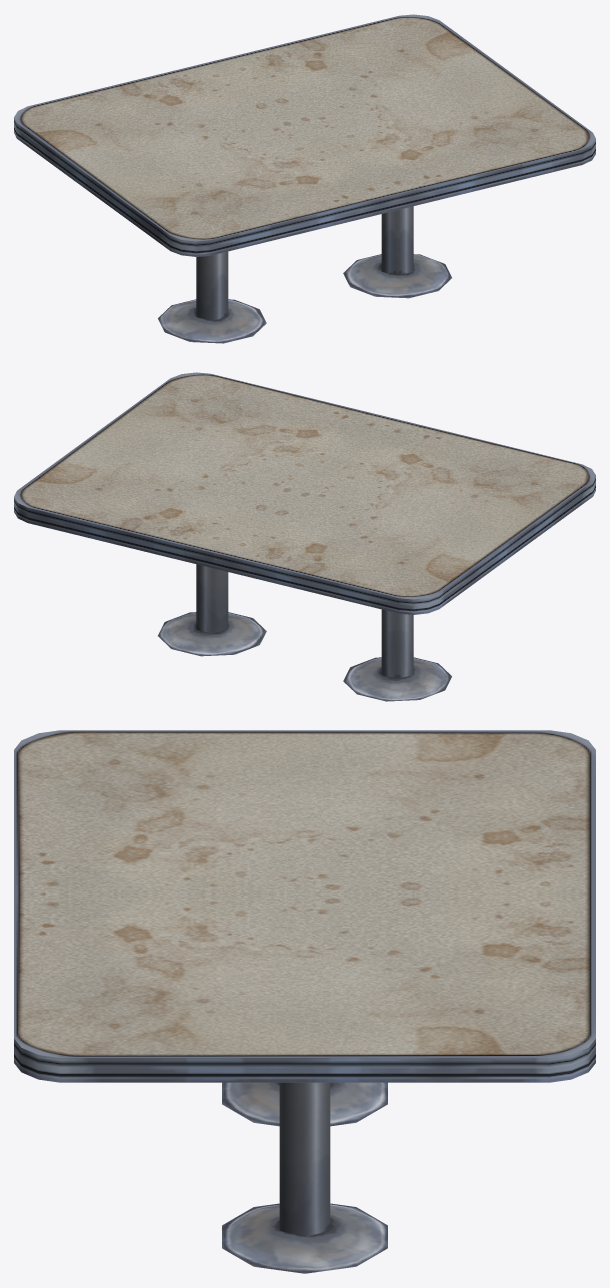
File: table_diner.fbx
3 views of the same model, one above another, from view 1: azimuth 30°, elevation 25°; view 2: azimuth 150°, elevation 25°; view 3: azimuth 270°, elevation 25° (orthographic). The views are drawn at different scales.
Visible parts, largest first — view 1: table_diner; view 2: table_diner; view 3: table_diner.
Part boxes in pixels (box(x1,y1,x2,y2)): table_diner: box(14, 14, 595, 343); table_diner: box(14, 372, 595, 701); table_diner: box(14, 730, 595, 1273).
Bounding box in the file's own units: 200 × 77 × 150.
